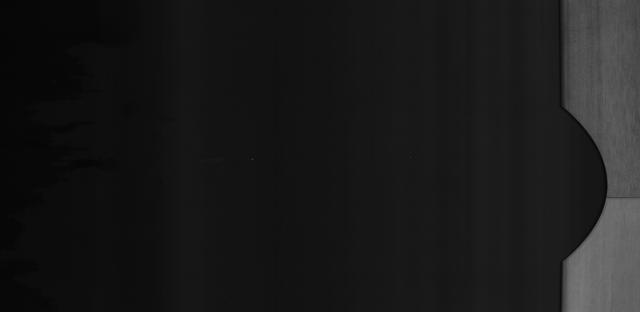crescent_gap: (548, 93, 614, 267)
